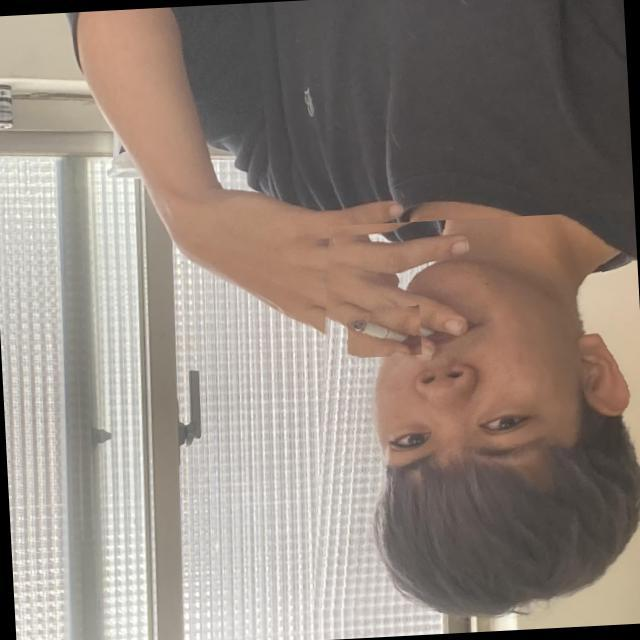cigarette: (344, 304, 422, 358)
